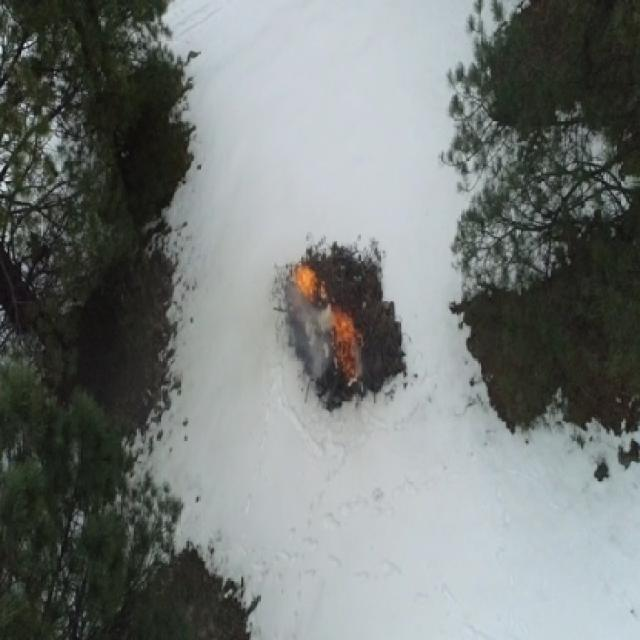Fire: (334, 310, 357, 346), (296, 264, 318, 300), (342, 348, 359, 374)
